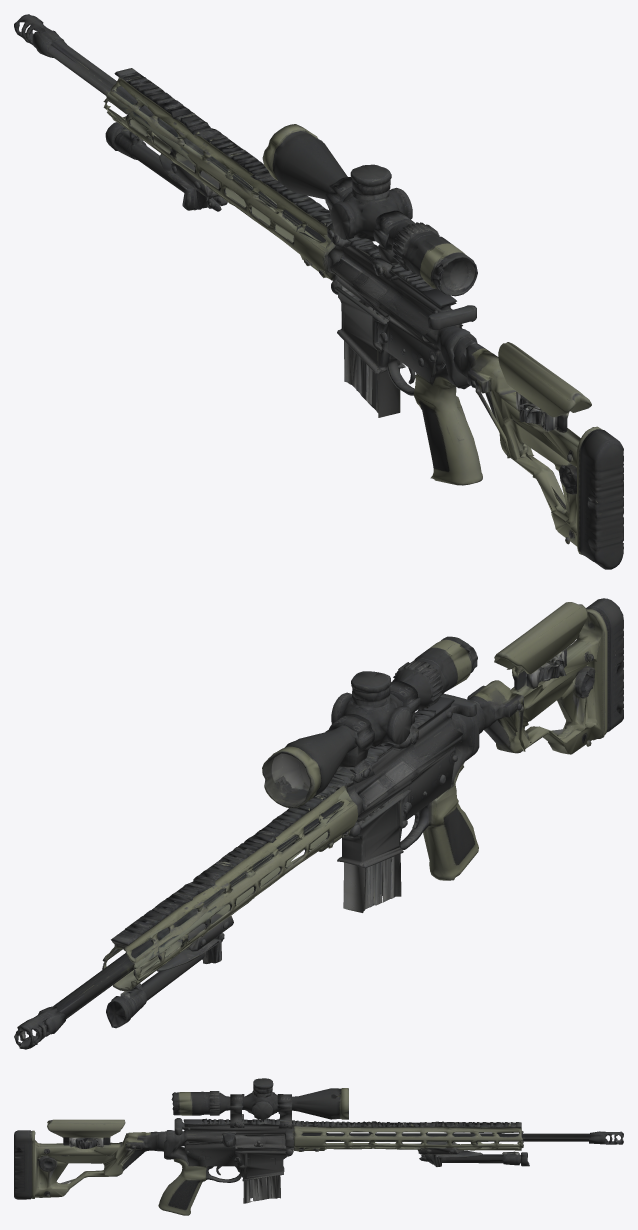
The model's file is weapon-overwatch.glb.
3 views of the same model, one above another, from view 1: azimuth 30°, elevation 25°; view 2: azimuth 150°, elevation 25°; view 3: azimuth 270°, elevation 25° (orthographic). The views are drawn at different scales.
Parts seen in each view (by area): view 1: overwatch, Magazine; view 2: overwatch, Magazine; view 3: overwatch, Magazine.
Part boxes in pixels (box(x1,y1,x2,y2)): overwatch: box(14, 14, 623, 569); Magazine: box(343, 300, 400, 417); overwatch: box(14, 598, 623, 1049); Magazine: box(343, 805, 401, 912); overwatch: box(14, 1078, 623, 1215); Magazine: box(243, 1158, 280, 1203).
Bounding box in the file's own units: 0.078 × 0.2497 × 1.05.
Materials: 1 (1 with a texture image).
